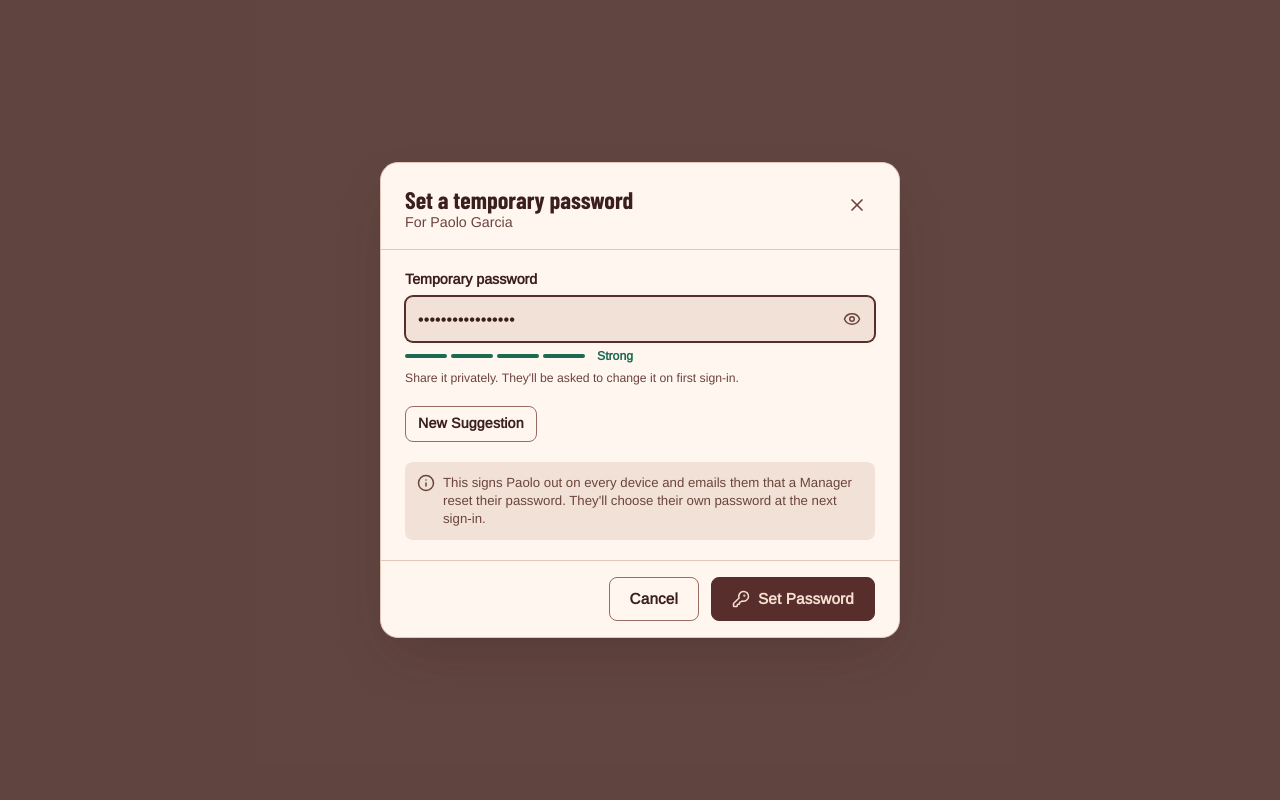
Test case: TemporaryPasswordDialog set step › puts the server message for the password under the field with the cursor there
Step 1. Click the button "Set Password" → {"x": 793, "y": 599}, box [711,577,875,621]
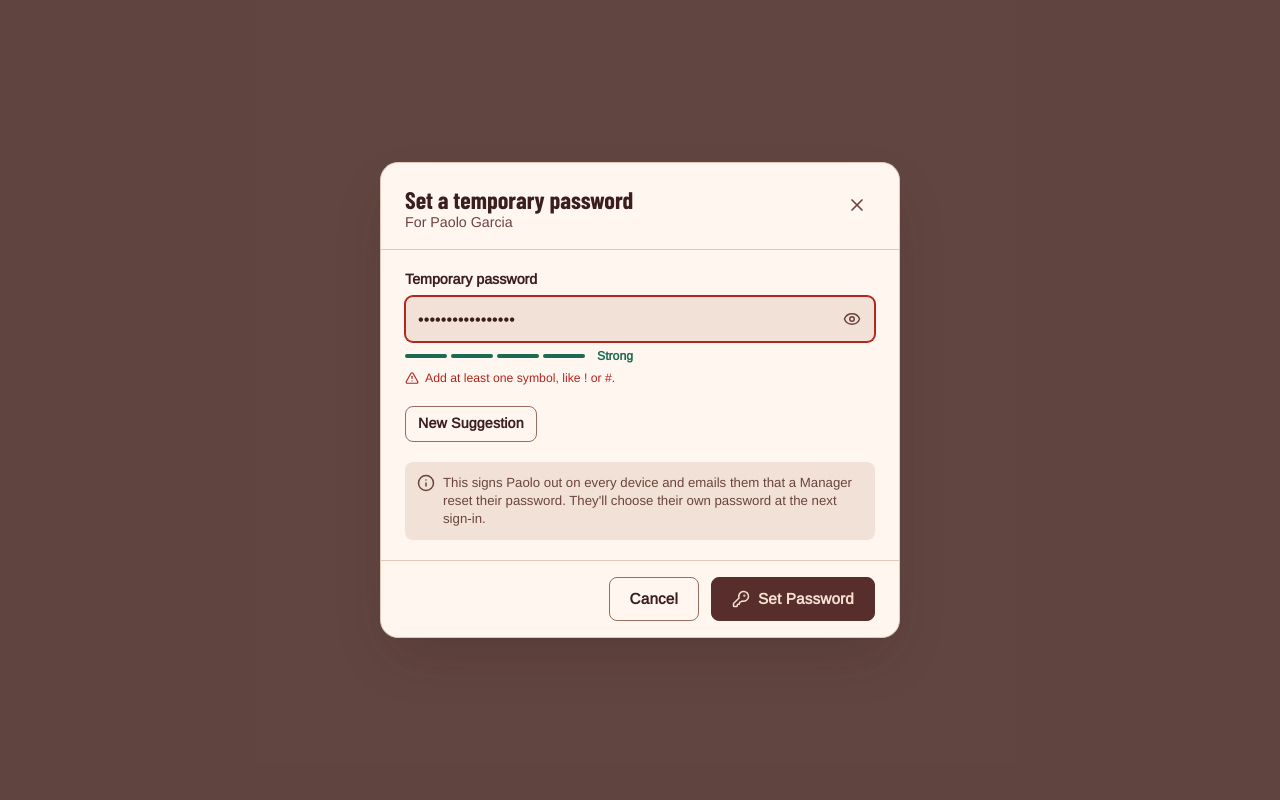
Expected: the text "Add at least one symbol, like ! or #." is shown, [405,371,615,385]
